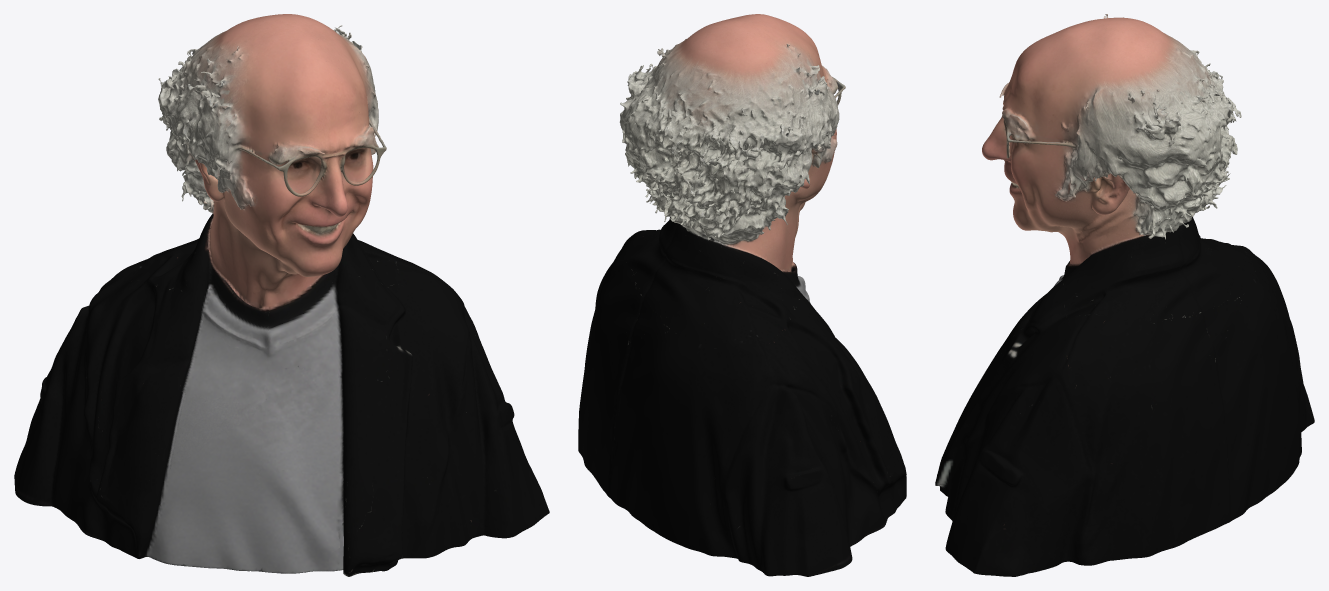
Rendered from Meshy_AI_Smiling_Man_with_Glas_1024085447_texture.glb.
3 views of the same model, side by side, from view 1: azimuth 30°, elevation 25°; view 2: azimuth 150°, elevation 25°; view 3: azimuth 270°, elevation 25° (orthographic). The views are drawn at different scales.
Size of the model in its own units: 1.6 by 1.9 by 1.42.
1 material, 1 textured.
